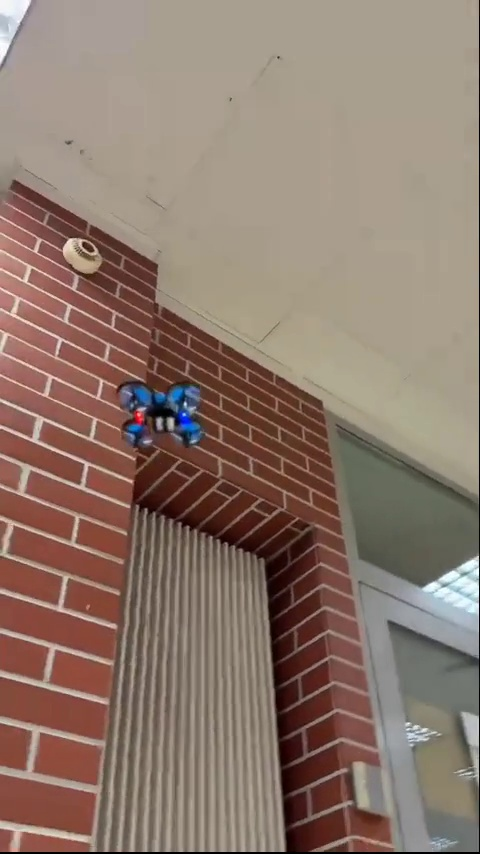drone: (113, 377, 205, 450)
